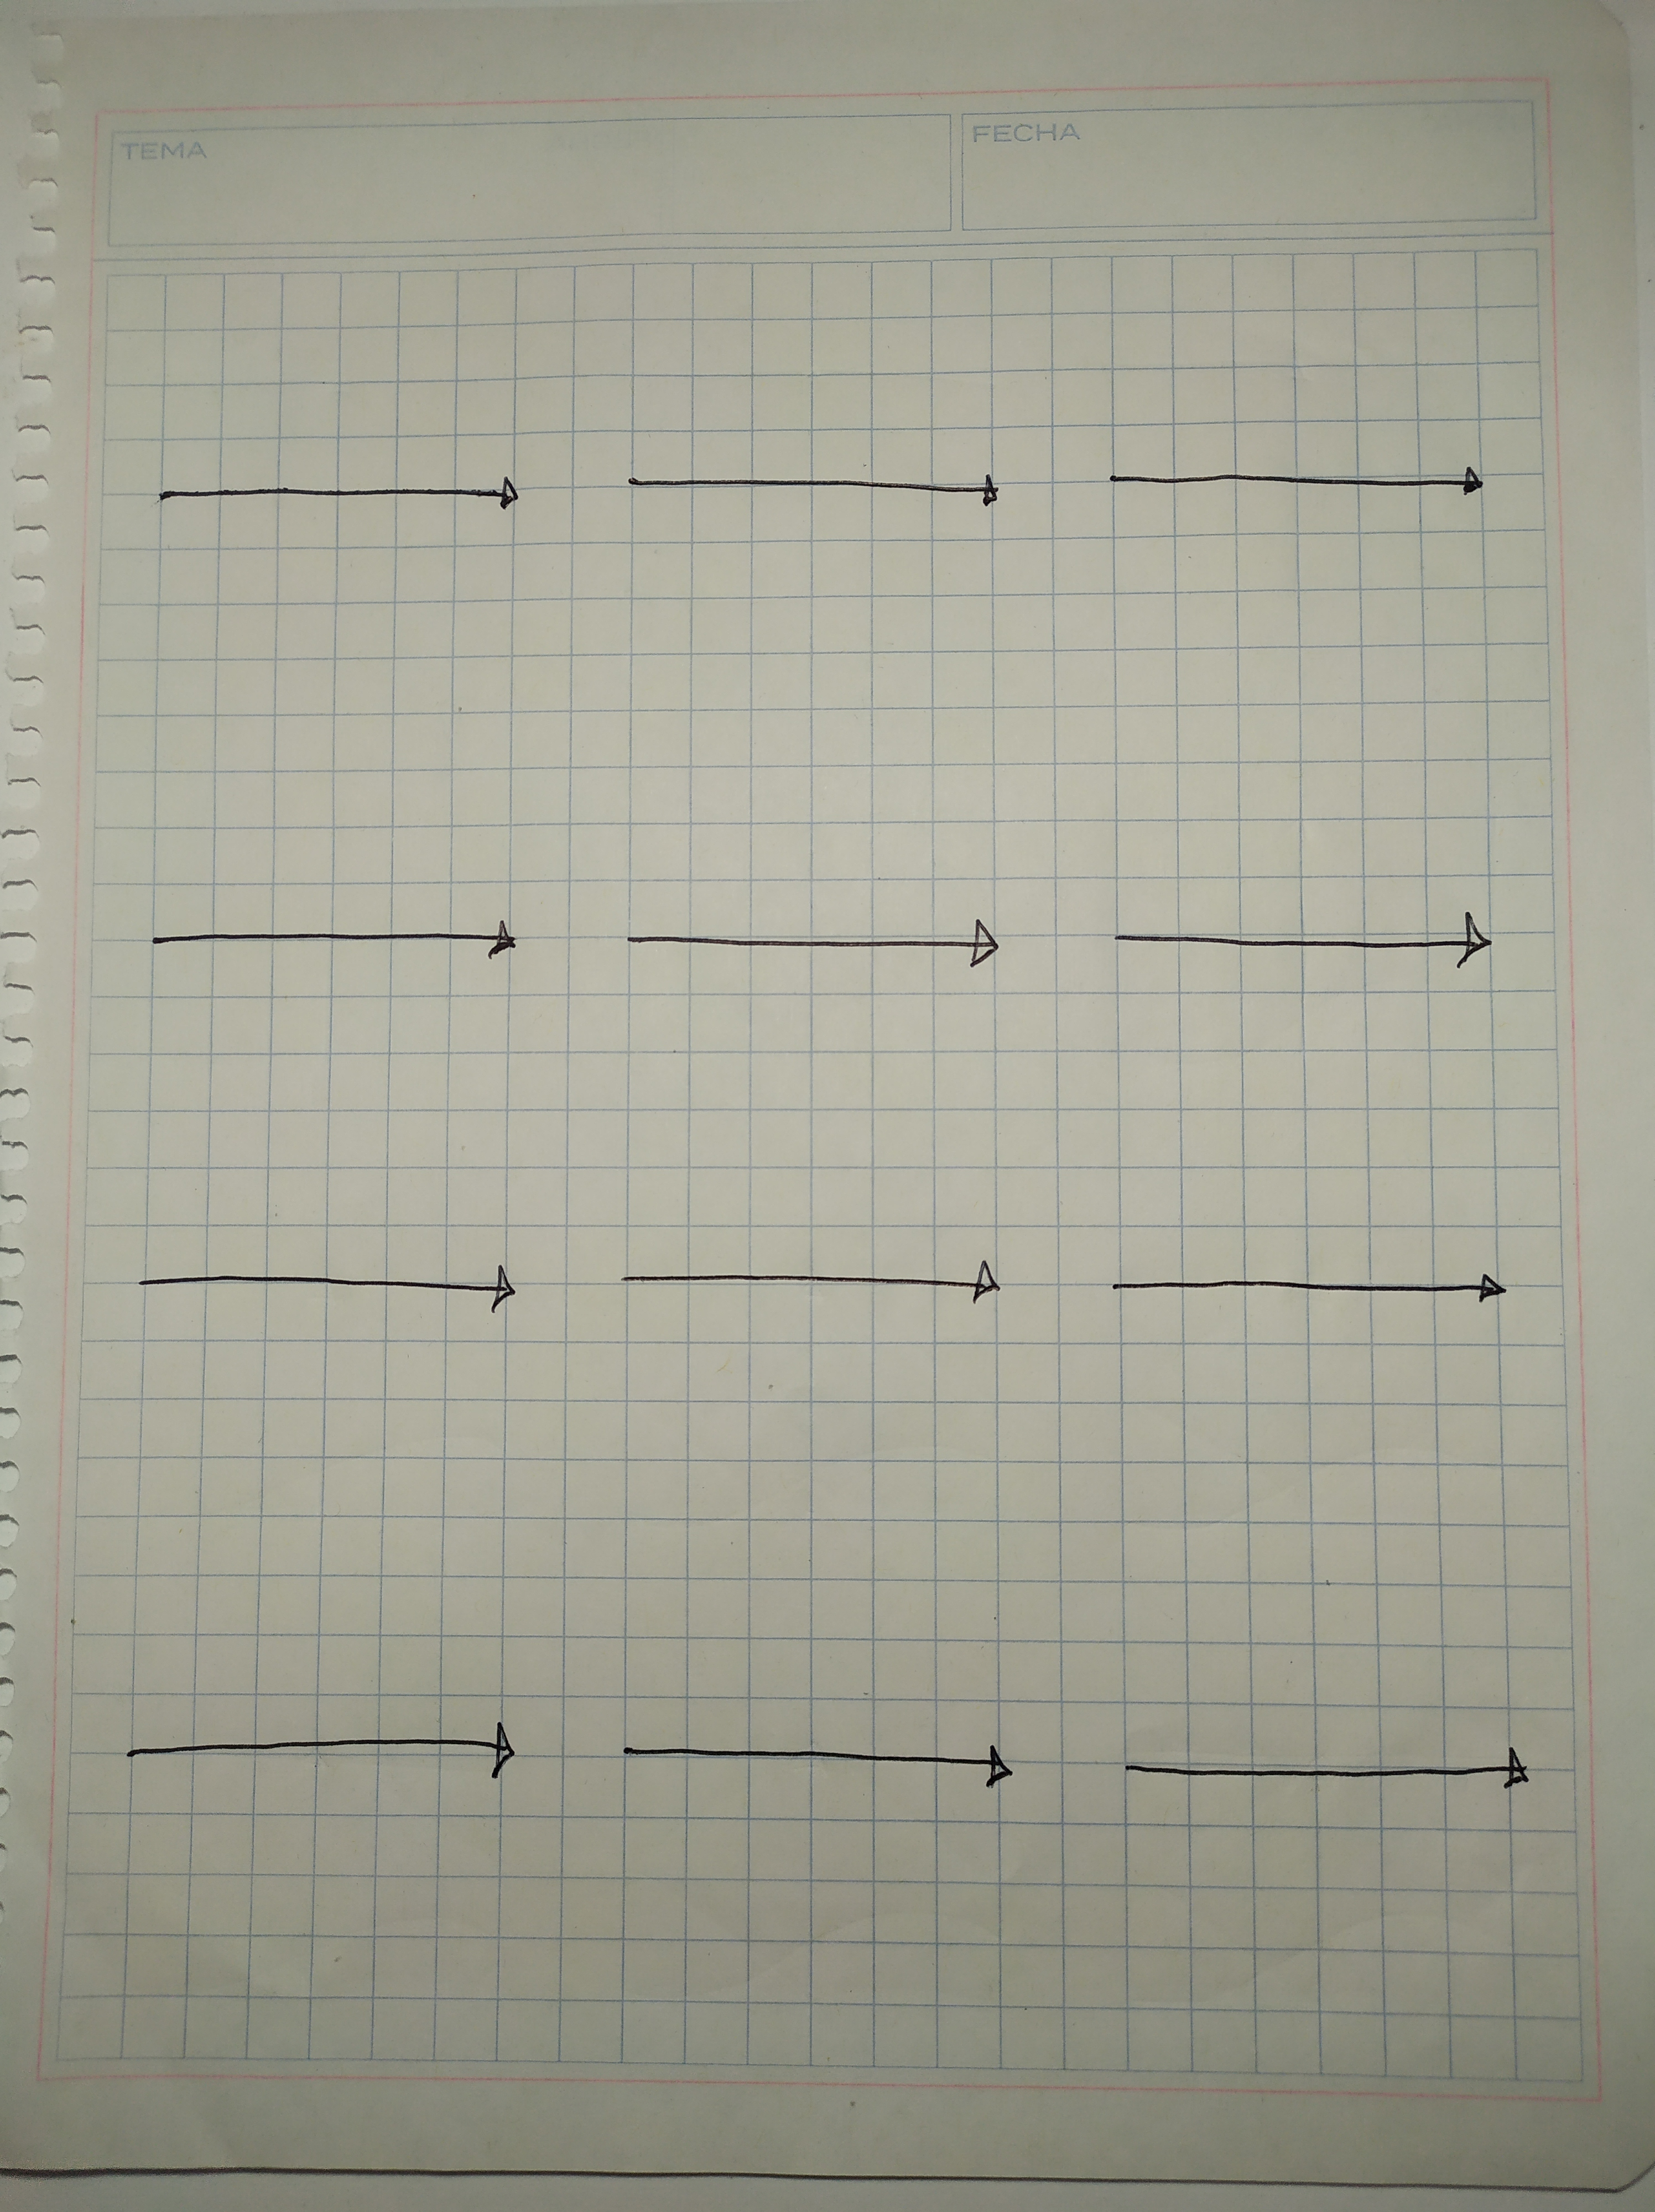arrow_line_right: (593, 1684, 1052, 1816), (1102, 1706, 1547, 1825), (1080, 433, 1525, 539), (110, 1696, 553, 1800), (586, 1230, 1045, 1329), (1085, 905, 1525, 1004), (111, 1237, 528, 1338), (619, 448, 1029, 547), (600, 893, 1008, 992), (1093, 1239, 1519, 1331), (130, 433, 535, 528), (120, 893, 539, 983)
